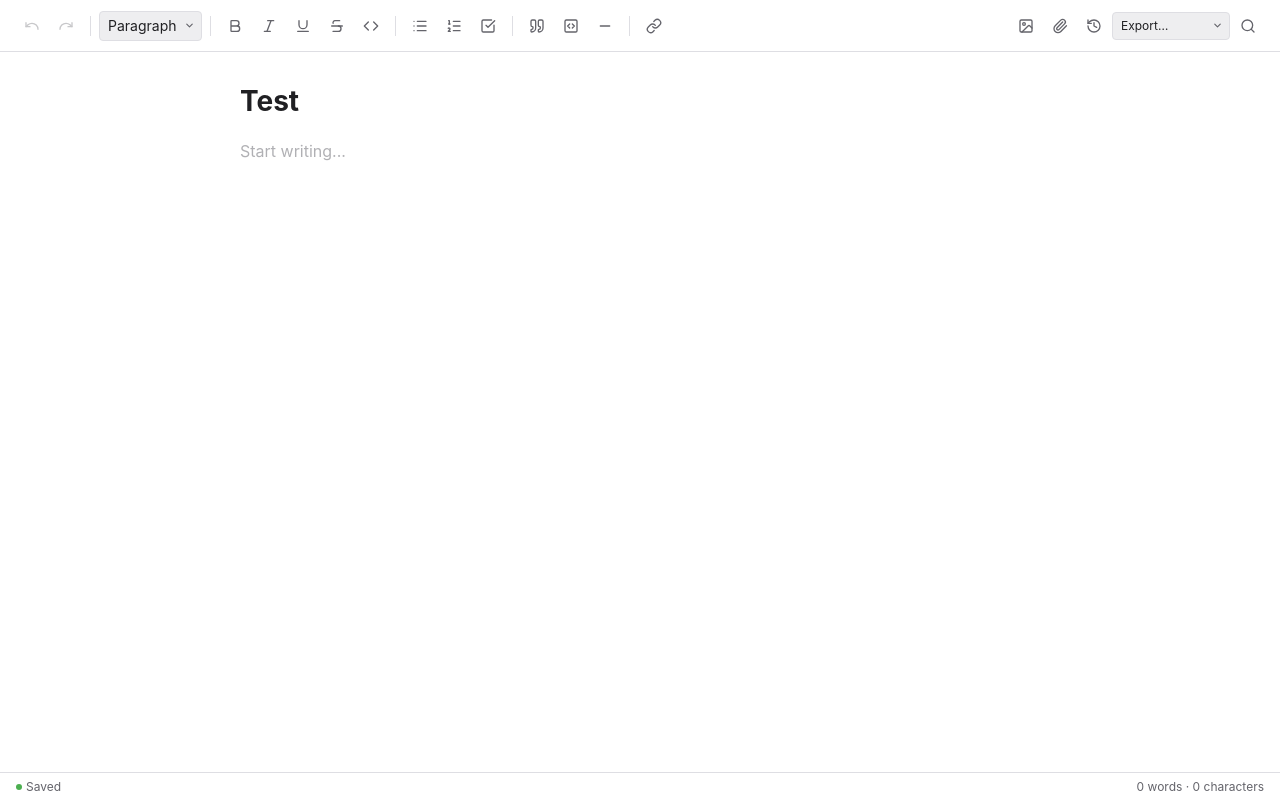
Scenario: EditorView Component › toggles find in note bar with Ctrl+F and close button
This screenshot has width=1280, height=800.
Press the mouse on the button named "Find in note": (1248, 26) x1=1232 y1=10 x2=1264 y2=42
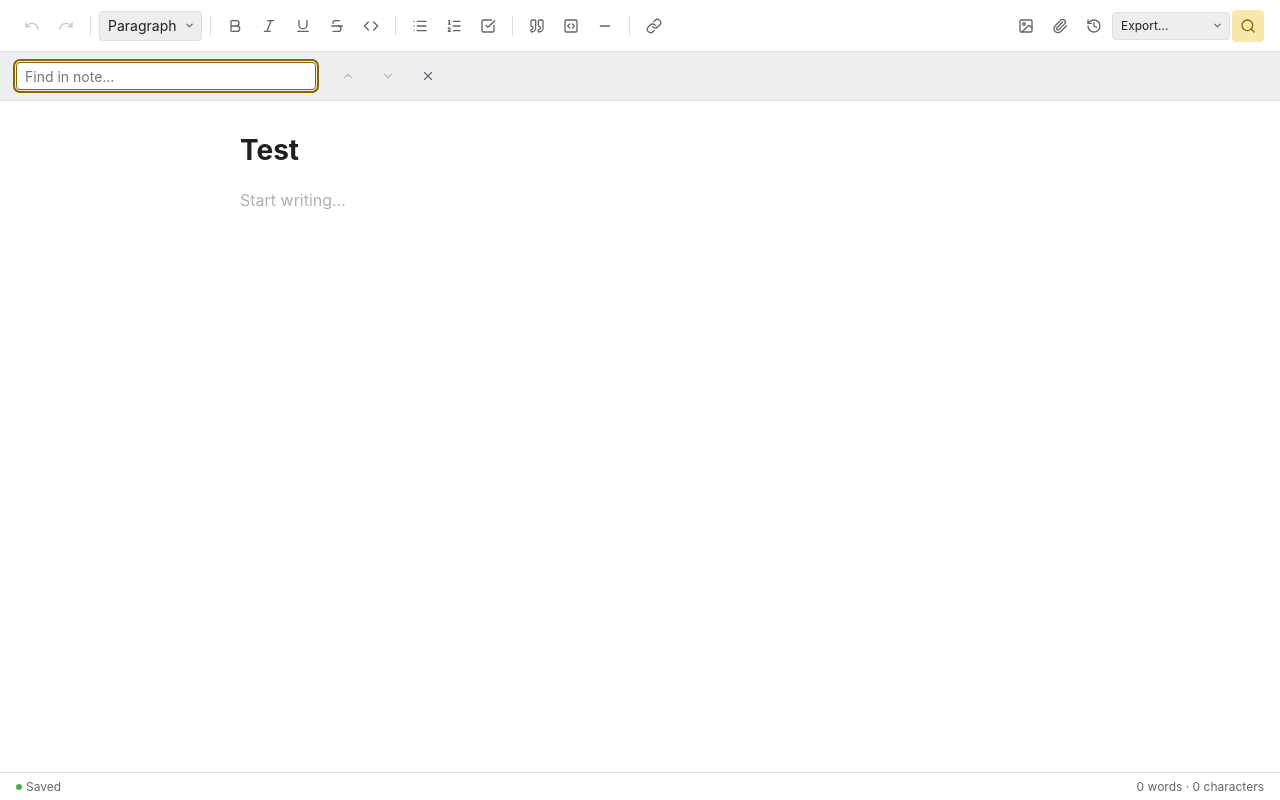
Expected: the element with test id "editor-find-bar" is shown, x1=0 y1=52 x2=1279 y2=101
Expected: the field with placeholder "Find in note..." is shown, x1=16 y1=62 x2=316 y2=90
Click the button titled "Close find": click(428, 76) x1=412 y1=60 x2=444 y2=92
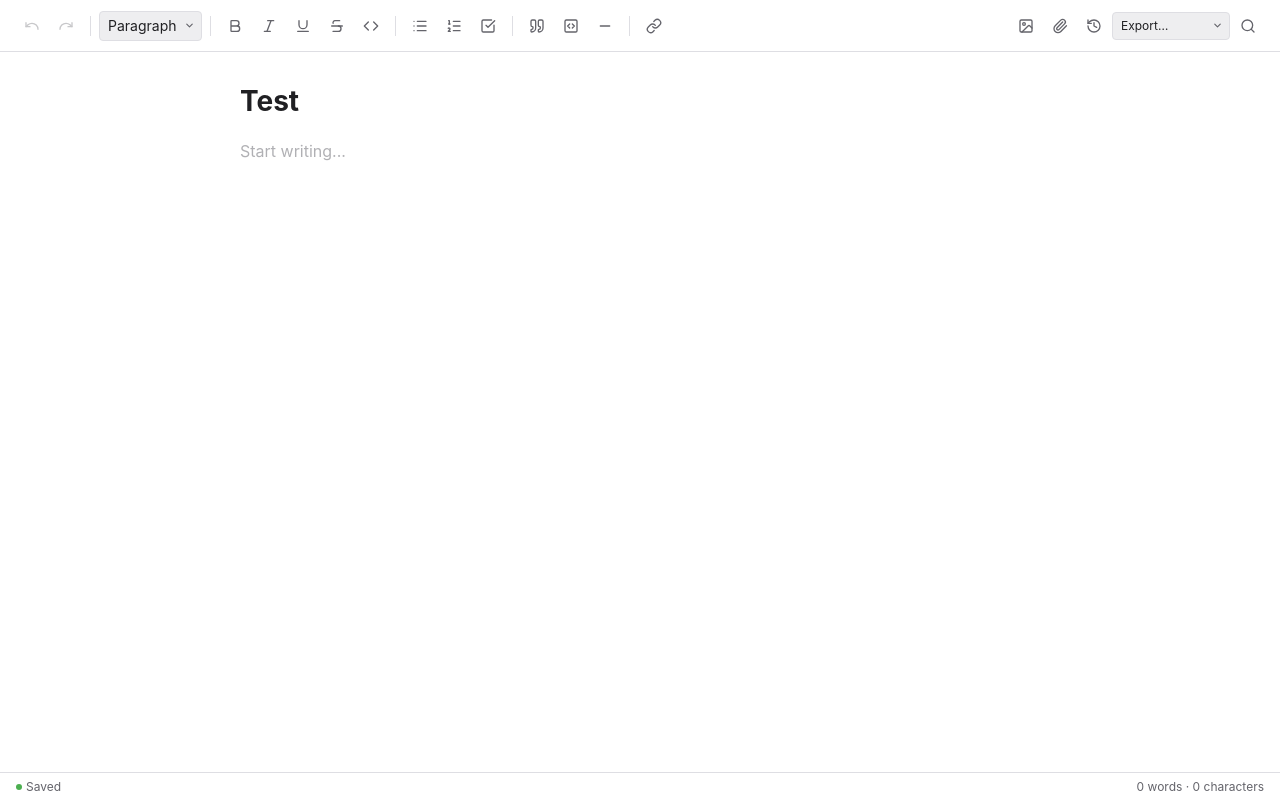
Expected: the element with test id "editor-find-bar" is gone
